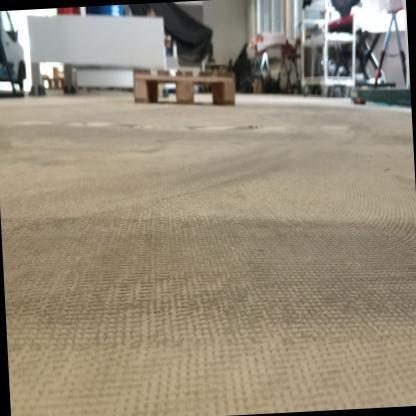pallet: (132, 68, 236, 106)
